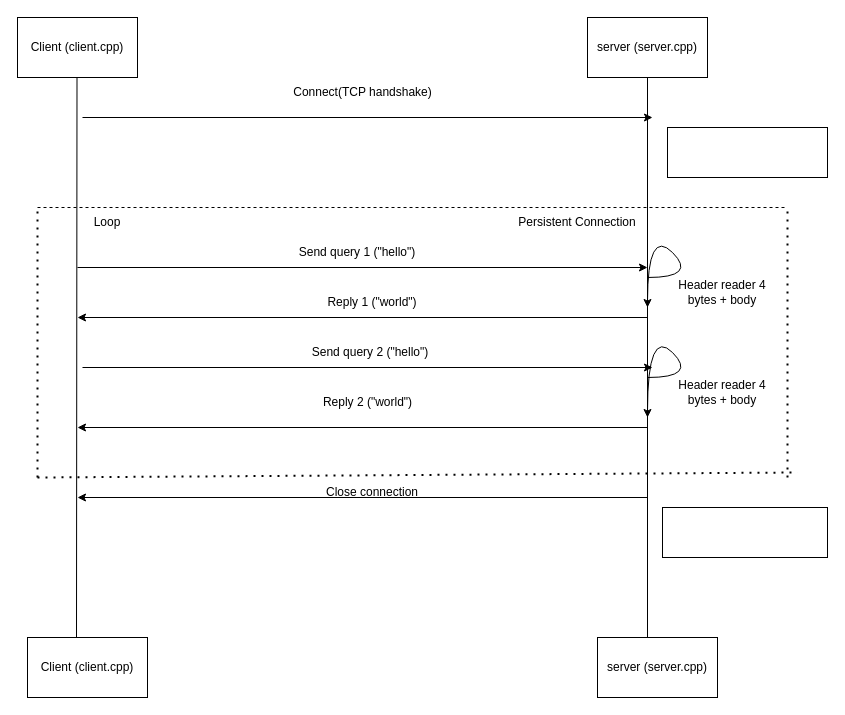
Image size: 845x715. Some labels were removed from this diagram. Here are the shapes that lost their labels. From the top down, the centre of each, then its label:
(747,152): Connection established
(745,532): Server waits for next client
